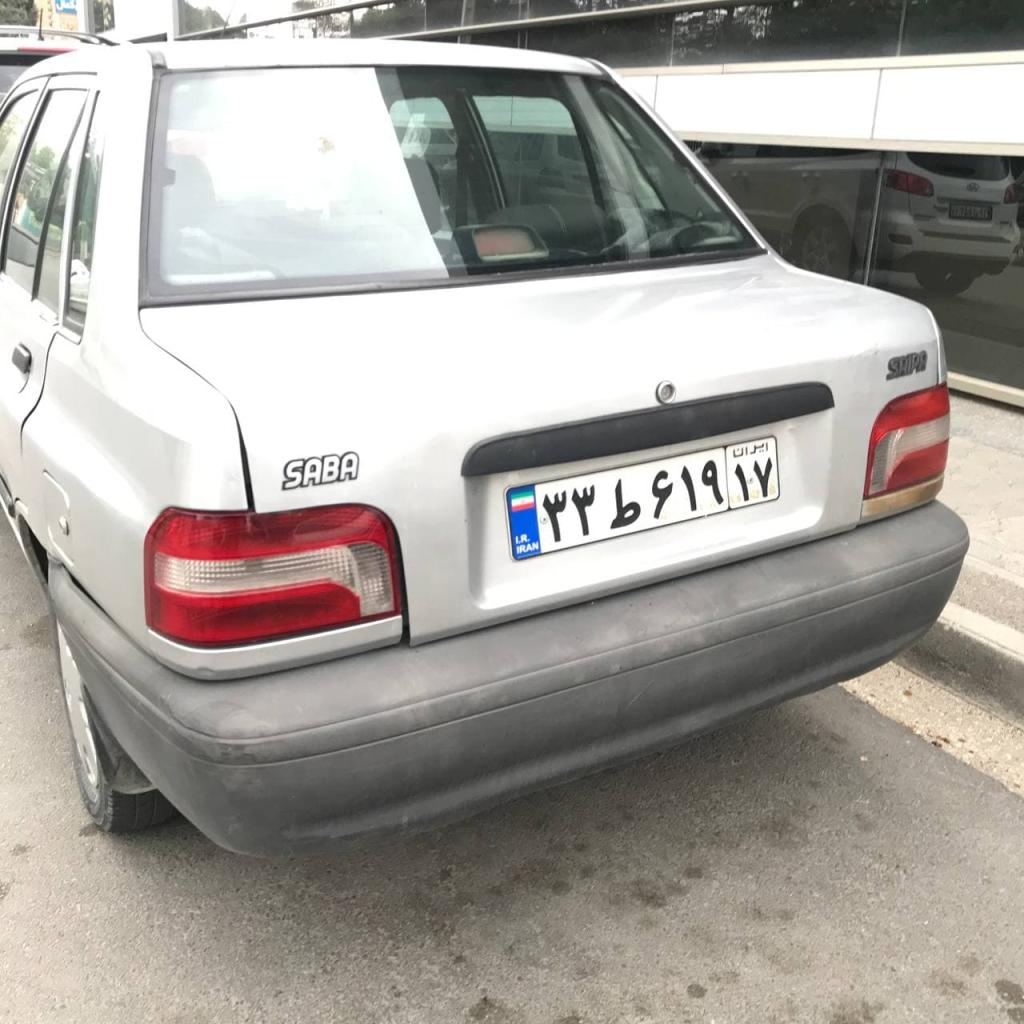Plates: (507, 437, 780, 560)
